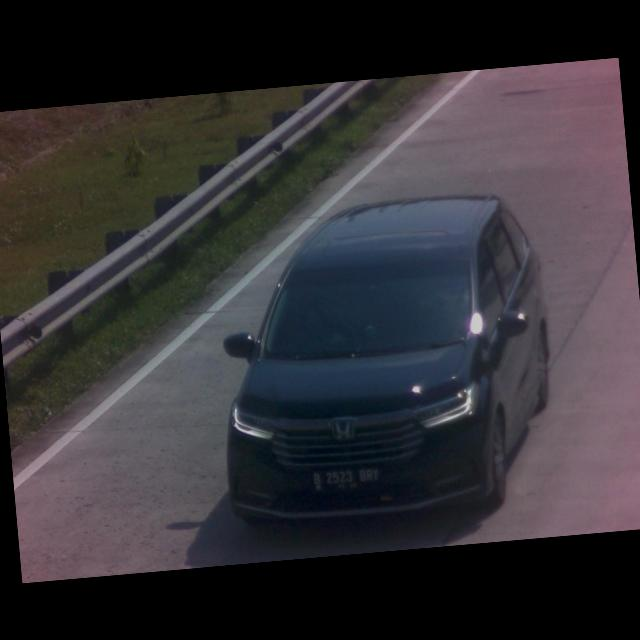plate: (308, 464, 384, 495)
